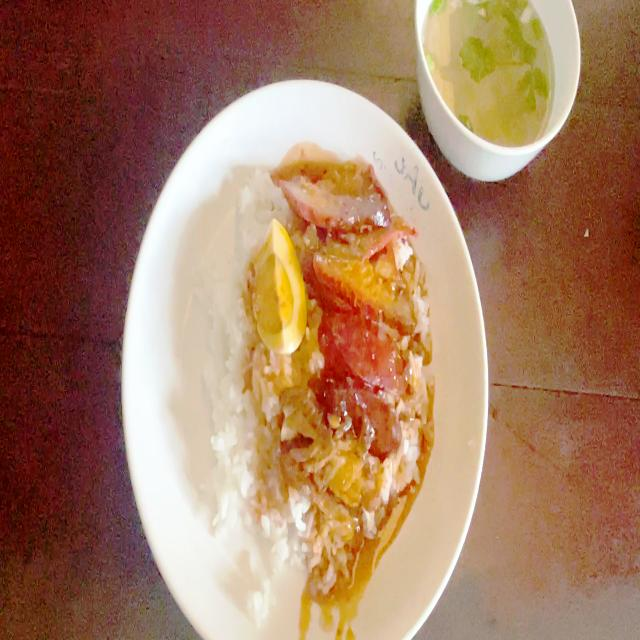boiled_egg: (254, 222, 302, 346)
chainese_sausage: (321, 334, 403, 440)
crispy_pork: (284, 451, 373, 536), (273, 386, 324, 470)
red_pork: (297, 161, 390, 255), (316, 232, 412, 322)
red_pork_and_crispy_pork: (197, 173, 428, 565)
rice: (195, 226, 241, 519), (233, 358, 280, 624)
